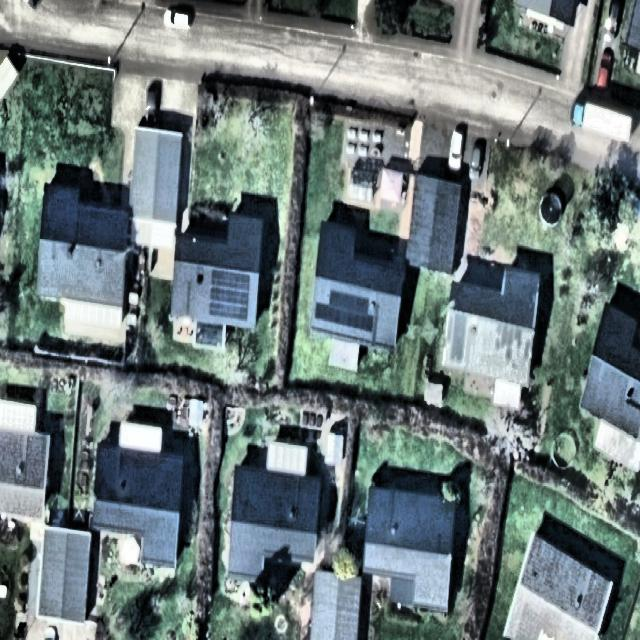roof_pv: (314, 288, 377, 335), (206, 269, 253, 322)
